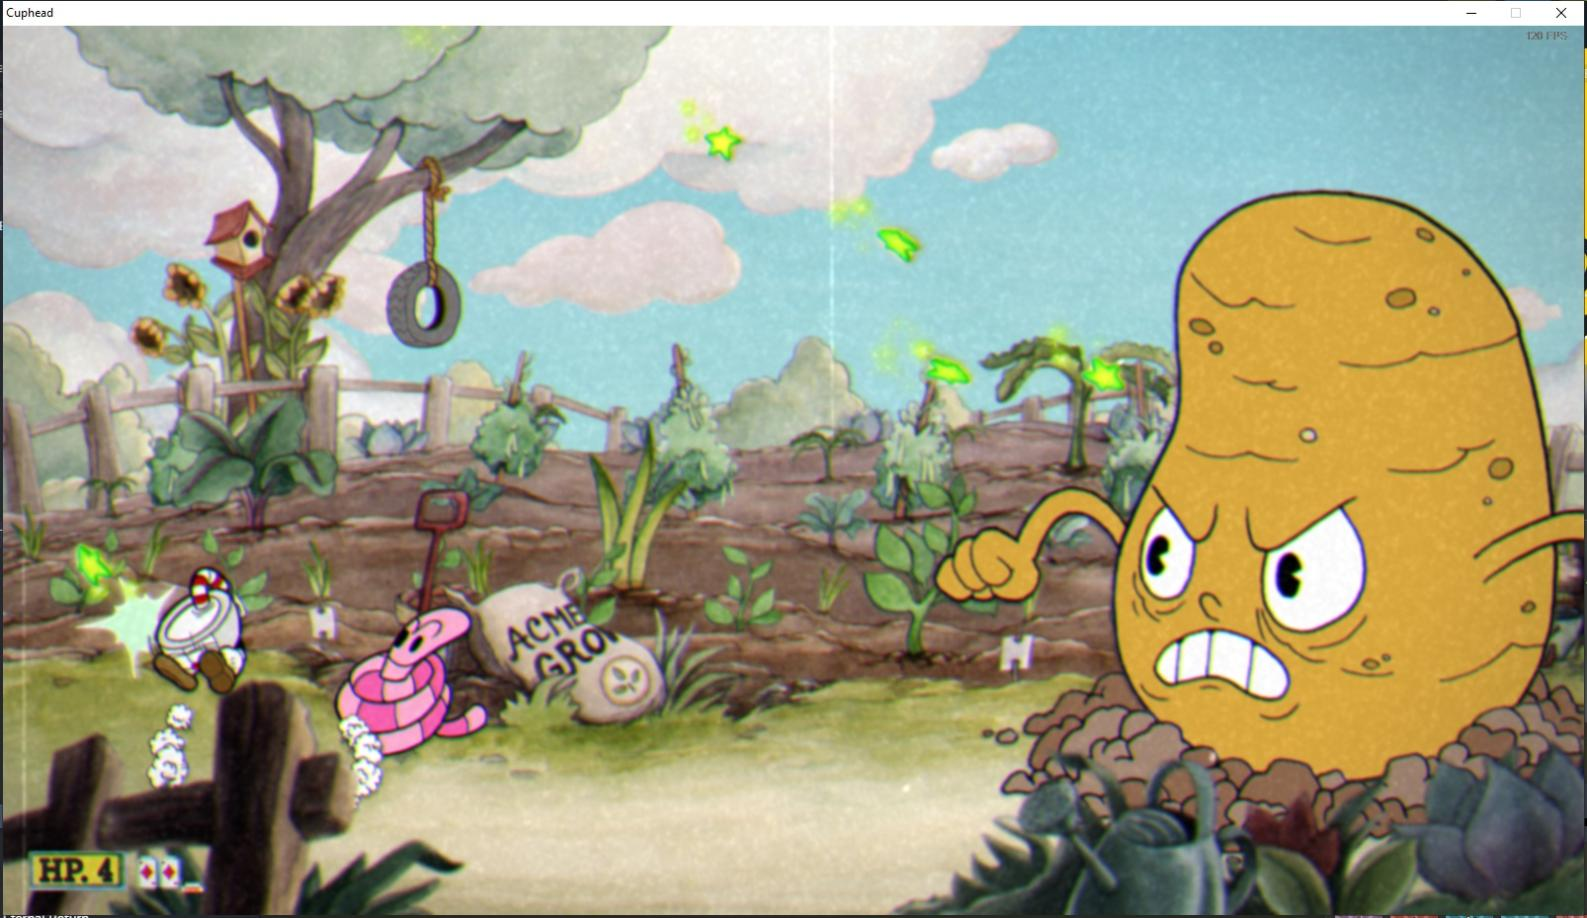hp4: (91, 851, 124, 891)
player: (134, 560, 261, 698)
potato_boss: (1102, 178, 1566, 786)
worm: (329, 602, 495, 766)
